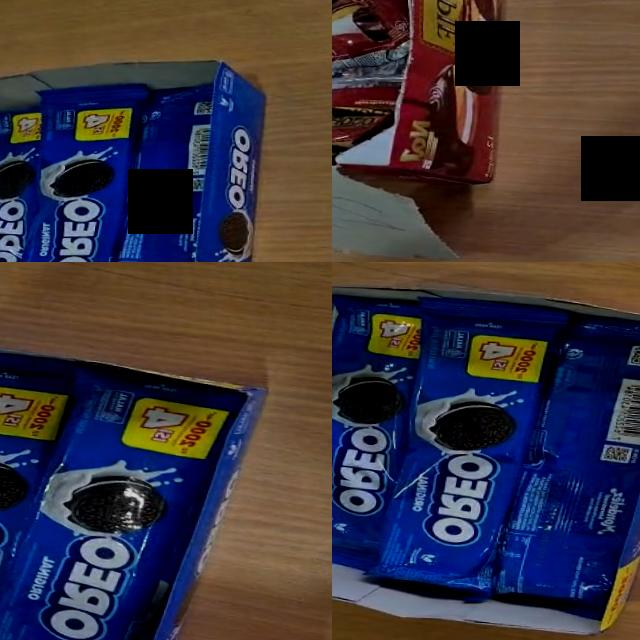Chocopie: (332, 0, 413, 82), (332, 66, 402, 121), (332, 105, 393, 165)
Oreo: (0, 359, 266, 640), (360, 293, 570, 605), (489, 309, 640, 622), (4, 77, 149, 262), (332, 293, 420, 571), (0, 344, 80, 640), (109, 80, 214, 262), (0, 100, 41, 262)
